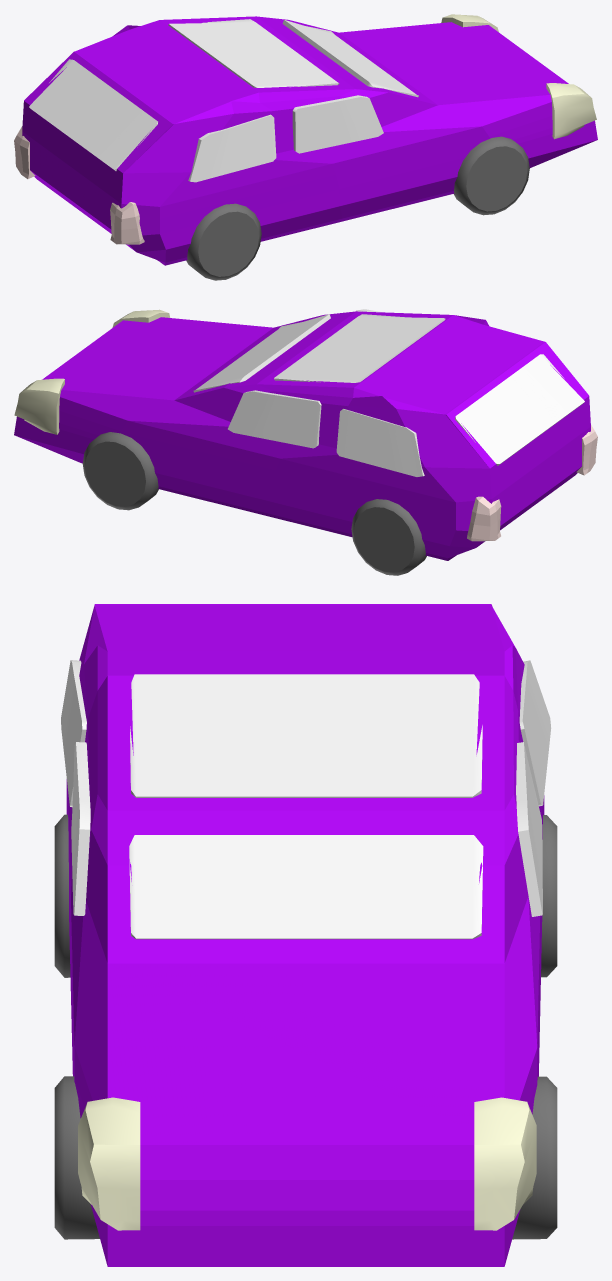
Rendered from CarroMorado.fbx.
The picture shows the model from 3 angles, top to bottom: view 1: azimuth 30°, elevation 25°; view 2: azimuth 150°, elevation 25°; view 3: azimuth 270°, elevation 25°; orthographic projection. The views are drawn at different scales.
Visible parts, largest first — view 1: pCube1, pCube10, pCube15, pCylinder1, pCylinder2, pCube8, pCube13, pCube6, pCube9, pCube11; view 2: pCube1, pCube10, pCube15, pCylinder3, pCylinder4, pCube12, pCube14, pCube6, pCube9, pCube11; view 3: pCube1, pCube15, pCube6, pCube9, pCylinder1, pCylinder3, pCube12, pCube14, pCube8, pCylinder4, pCylinder2, pCube13.
Boxes of the visible parts, x1=… form: pCube1: x1=22, y1=16, x2=597, y2=265; pCube10: x1=29, y1=59, x2=157, y2=170; pCube15: x1=168, y1=19, x2=339, y2=87; pCylinder1: x1=454, y1=136, x2=529, y2=215; pCylinder2: x1=186, y1=203, x2=261, y2=280; pCube8: x1=292, y1=95, x2=383, y2=153; pCube13: x1=188, y1=114, x2=276, y2=182; pCube6: x1=282, y1=20, x2=418, y2=97; pCube9: x1=441, y1=14, x2=596, y2=139; pCube11: x1=14, y1=126, x2=144, y2=244; pCube1: x1=14, y1=311, x2=590, y2=560; pCube10: x1=455, y1=354, x2=584, y2=465; pCube15: x1=274, y1=314, x2=445, y2=382; pCylinder3: x1=82, y1=432, x2=158, y2=510; pCylinder4: x1=351, y1=499, x2=426, y2=575; pCube12: x1=228, y1=390, x2=321, y2=448; pCube14: x1=336, y1=409, x2=424, y2=476; pCube6: x1=193, y1=314, x2=330, y2=392; pCube9: x1=14, y1=309, x2=170, y2=434; pCube11: x1=467, y1=425, x2=597, y2=541; pCube1: x1=66, y1=604, x2=544, y2=1266; pCube15: x1=130, y1=674, x2=482, y2=797; pCube6: x1=129, y1=835, x2=483, y2=939; pCube9: x1=78, y1=1097, x2=536, y2=1230; pCylinder1: x1=54, y1=1076, x2=99, y2=1239; pCylinder3: x1=512, y1=1076, x2=557, y2=1239; pCube12: x1=516, y1=742, x2=542, y2=916; pCube14: x1=519, y1=660, x2=551, y2=806; pCube8: x1=71, y1=742, x2=90, y2=915; pCylinder4: x1=541, y1=815, x2=557, y2=977; pCylinder2: x1=54, y1=814, x2=70, y2=977; pCube13: x1=61, y1=660, x2=86, y2=807.
Bounding box in the file's own units: 24.46 × 8.28 × 11.09.
